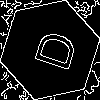D: (25, 25, 78, 74)
